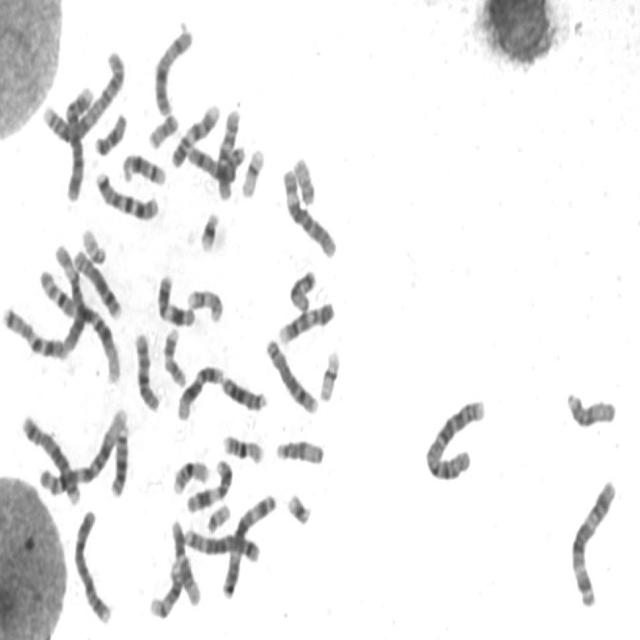A1: (37, 263, 123, 386), (35, 403, 131, 499)
A2: (38, 46, 127, 145), (422, 393, 488, 483)
A3: (568, 474, 618, 610), (219, 490, 279, 601)
B4: (70, 505, 114, 627), (62, 80, 94, 204)
B5: (18, 409, 83, 507), (182, 524, 262, 565)
C10: (215, 102, 242, 202), (132, 328, 162, 414)
C11: (183, 456, 234, 515), (154, 270, 198, 330)
C12: (174, 360, 225, 422), (168, 515, 202, 608)
C6: (278, 163, 338, 260), (53, 243, 87, 355)
C7: (92, 166, 161, 222), (1, 305, 68, 361)
C8: (262, 334, 320, 416), (69, 245, 124, 321)
C9: (168, 99, 222, 170), (276, 298, 336, 347)
D13: (218, 371, 269, 413), (107, 418, 131, 499)
D14: (146, 556, 185, 621), (119, 149, 168, 188)
D15: (563, 387, 618, 430), (272, 435, 326, 468)
E16: (170, 455, 211, 497), (220, 429, 266, 466)
E17: (161, 325, 188, 389), (185, 284, 225, 325)
E18: (91, 108, 129, 157), (286, 266, 318, 314)
F19: (238, 143, 266, 200), (316, 345, 342, 404)
F20: (290, 153, 317, 208), (146, 110, 180, 151)
G21: (284, 489, 314, 528), (197, 207, 220, 254)
G22: (79, 223, 108, 266), (204, 500, 232, 535)
X: (150, 22, 195, 118), (184, 139, 246, 183)
